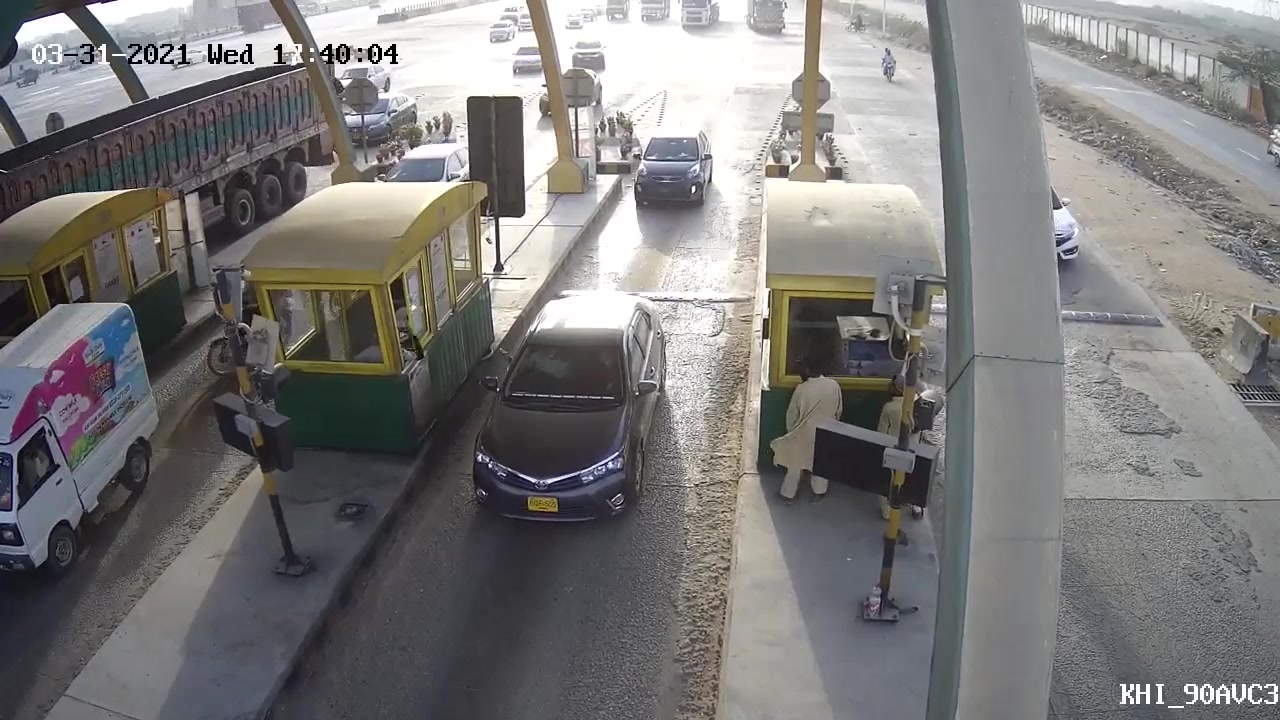F1: (465, 277, 663, 542), (629, 124, 716, 214)
